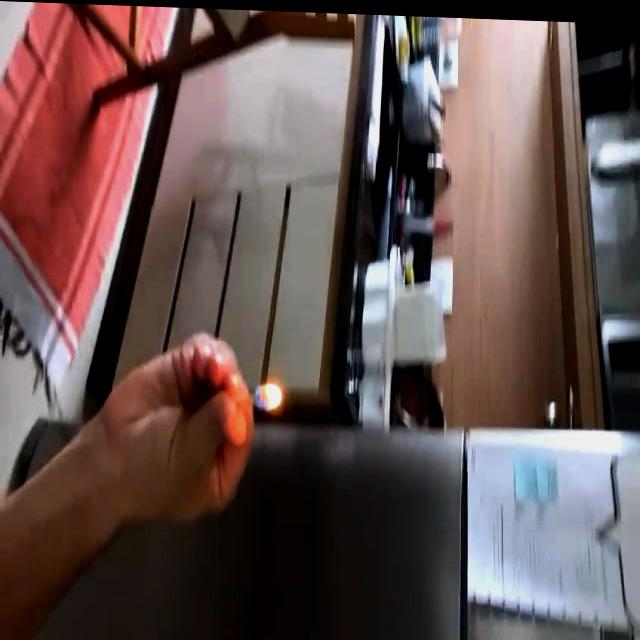helmet: (250, 379, 287, 411)
